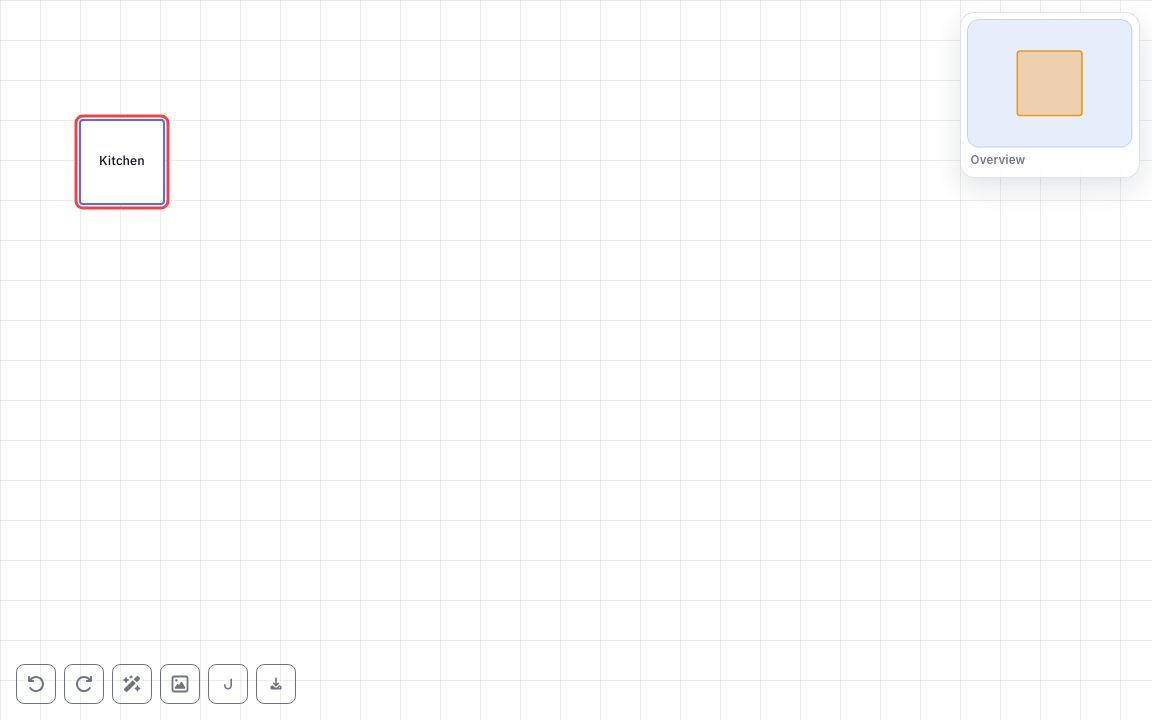
Test: MapCanvas › does not clear the current selection when clicking a bottom-right action button
Click the button named "Export PNG": point(276, 684) x1=256 y1=664 x2=296 y2=704
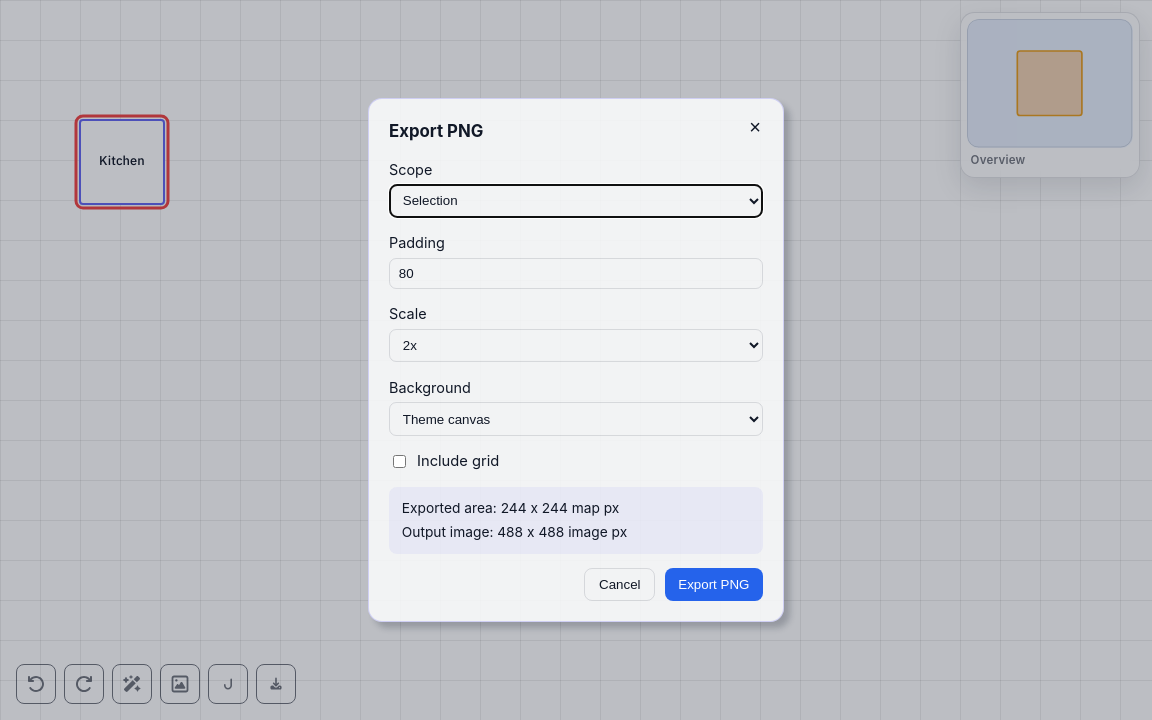
Check: the heading "Export PNG" is shown, box x1=389 y1=121 x2=483 y2=141
